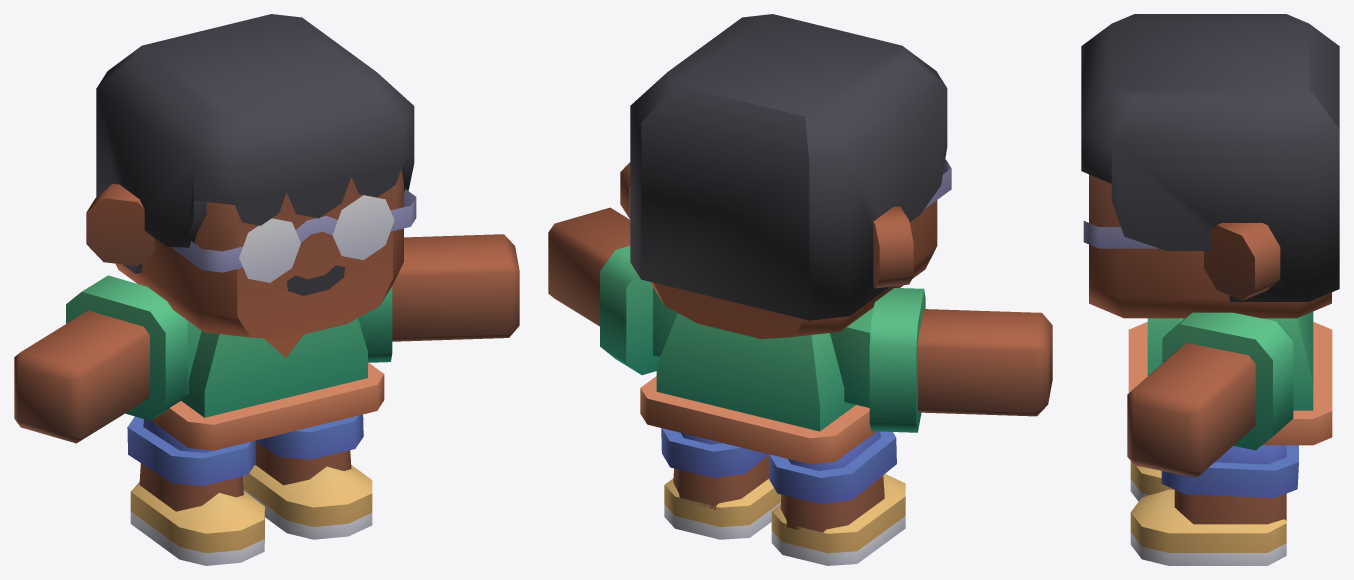
File: character-male-a.obj
3 renders of one model, left to right at view 1: azimuth 30°, elevation 25°; view 2: azimuth 150°, elevation 25°; view 3: azimuth 270°, elevation 25°, orthographic.
Parts seen in each view (by area): view 1: head-mesh, body-mesh; view 2: head-mesh, body-mesh; view 3: head-mesh, body-mesh.
Part boxes in pixels (x1,y1,x2,y2): head-mesh: (86,14,416,339); body-mesh: (14,234,519,565); head-mesh: (620,14,951,338); body-mesh: (548,207,1052,565); head-mesh: (1081,14,1339,318); body-mesh: (1127,311,1332,565).
Size of the model in its own units: 0.7672 by 0.6713 by 0.34.
Materials: 1 (1 with a texture image).
